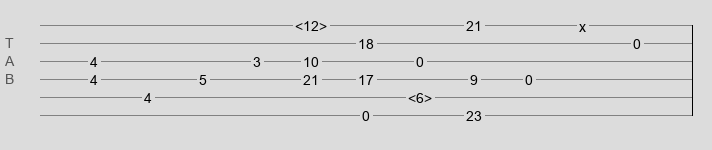0: (362, 108, 370, 118), (416, 54, 424, 64), (525, 72, 533, 82), (633, 36, 641, 46)
10: (303, 54, 319, 64)
17: (358, 72, 374, 82)
18: (358, 36, 374, 46)
21: (303, 72, 319, 82), (466, 18, 482, 28)
23: (466, 108, 482, 118)
3: (253, 54, 261, 64)
4: (90, 54, 98, 64), (90, 72, 98, 82), (144, 90, 152, 100)
5: (199, 72, 207, 82)
9: (470, 72, 478, 82)
harmonic: (295, 18, 327, 28), (408, 90, 432, 100)
x: (579, 19, 586, 27)
